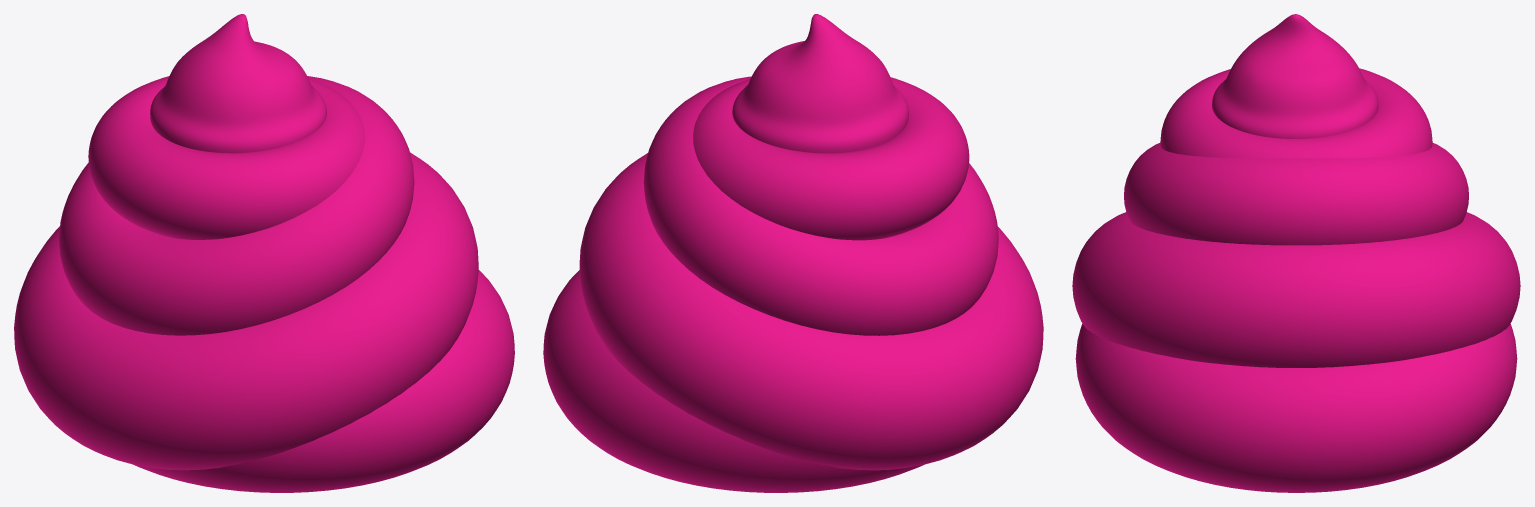
The model's file is poop.glb.
3 renders of one model, left to right at view 1: azimuth 30°, elevation 25°; view 2: azimuth 150°, elevation 25°; view 3: azimuth 270°, elevation 25°, orthographic. The views are drawn at different scales.
Parts seen in each view (by area): view 1: Poop; view 2: Poop; view 3: Poop.
Boxes of the visible parts, x1,y1,x2,y2 form: Poop: [14, 14, 514, 492]; Poop: [543, 14, 1043, 492]; Poop: [1072, 14, 1520, 492].
Bounding box in the file's own units: 1.8 × 1.63 × 1.7.
